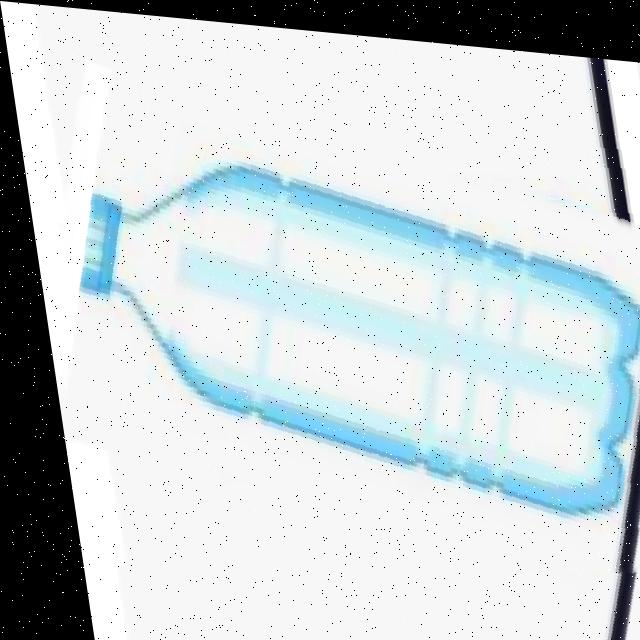litter: (11, 90, 640, 611), (41, 219, 139, 436)
